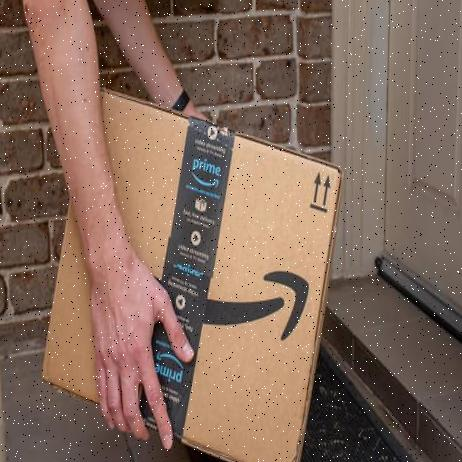Amazon: (39, 88, 343, 462)
